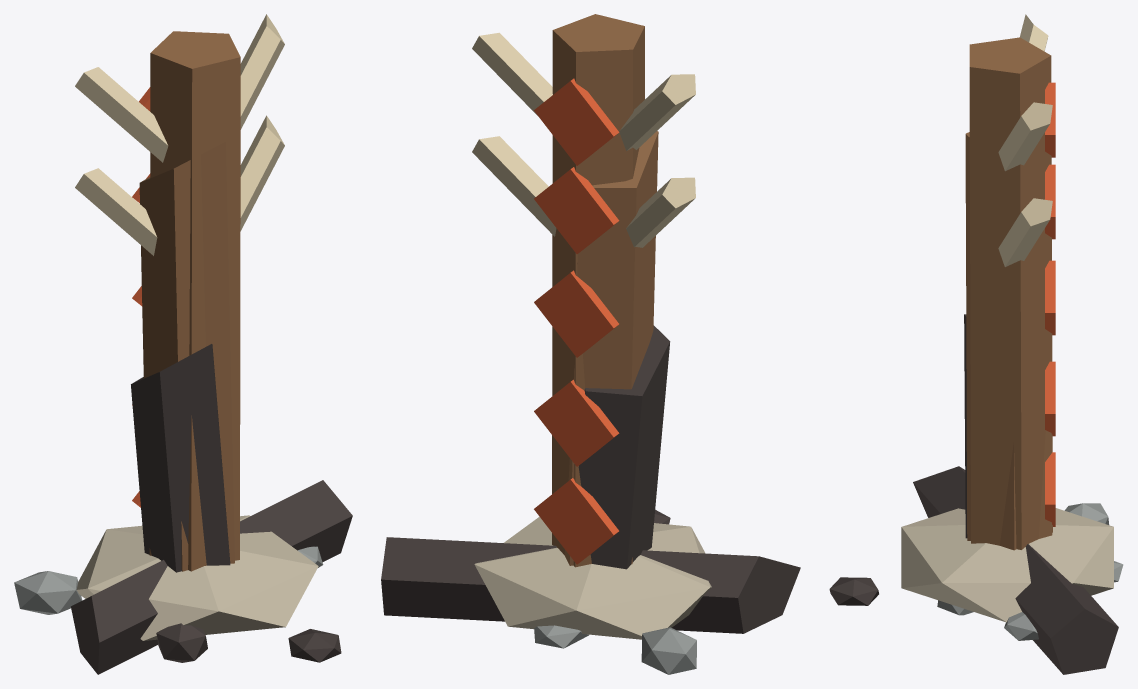
The model's file is sacred_totem_stages.glb.
The picture shows the model from 3 angles, left to right: view 1: azimuth 30°, elevation 25°; view 2: azimuth 150°, elevation 25°; view 3: azimuth 270°, elevation 25°; orthographic projection. The views are drawn at different scales.
Parts seen in each view (by area): view 1: Stage_Intact, Stage_Damaged, Stage_Critical, Stage_Rubble; view 2: Stage_Intact, Stage_Damaged, Stage_Rubble, Stage_Critical; view 3: Stage_Intact, Stage_Rubble, Stage_Damaged, Stage_Critical.
Boxes of the visible parts, left/top/right/bottom form: Stage_Intact: left=14, top=14, right=341, bottom=662; Stage_Damaged: left=75, top=115, right=284, bottom=571; Stage_Critical: left=131, top=344, right=230, bottom=572; Stage_Rubble: left=71, top=480, right=352, bottom=674; Stage_Intact: left=472, top=14, right=711, bottom=674; Stage_Damaged: left=472, top=131, right=695, bottom=565; Stage_Rubble: left=381, top=537, right=800, bottom=633; Stage_Critical: left=578, top=325, right=670, bottom=569; Stage_Intact: left=829, top=14, right=1123, bottom=640; Stage_Rubble: left=913, top=466, right=1118, bottom=674; Stage_Damaged: left=965, top=132, right=1052, bottom=550; Stage_Critical: left=964, top=314, right=967, bottom=538.
Size of what is drawn, in the model's own units: 1.86 by 3.1 by 1.53.
